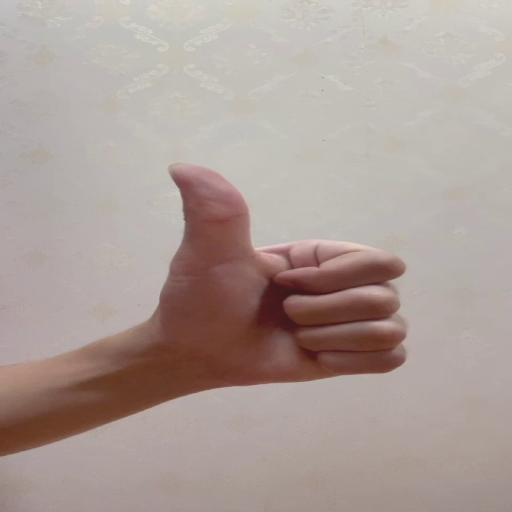thumbs_up: (164, 161, 411, 386)
